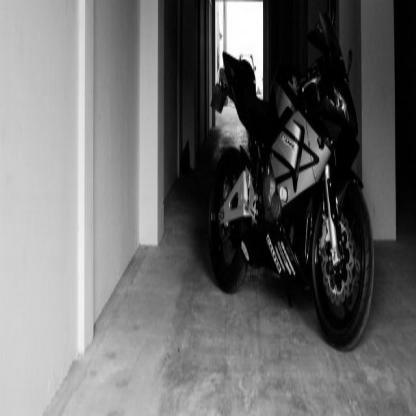moto: (188, 50, 398, 354)
